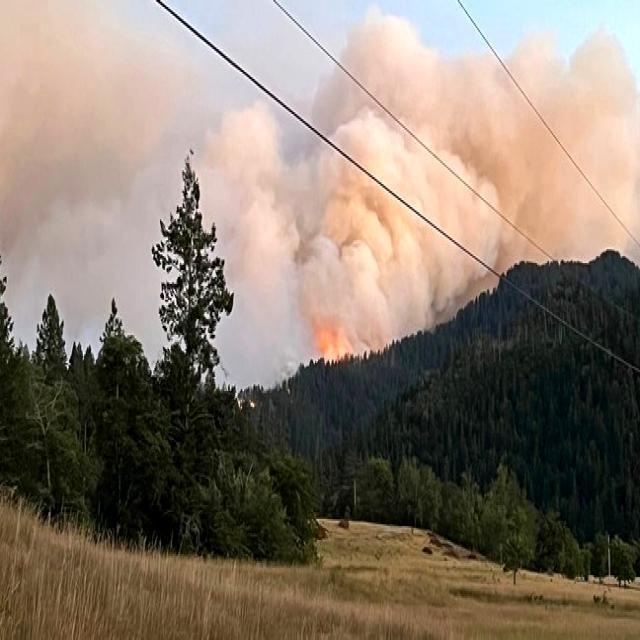Smoke: (1, 5, 637, 341)
